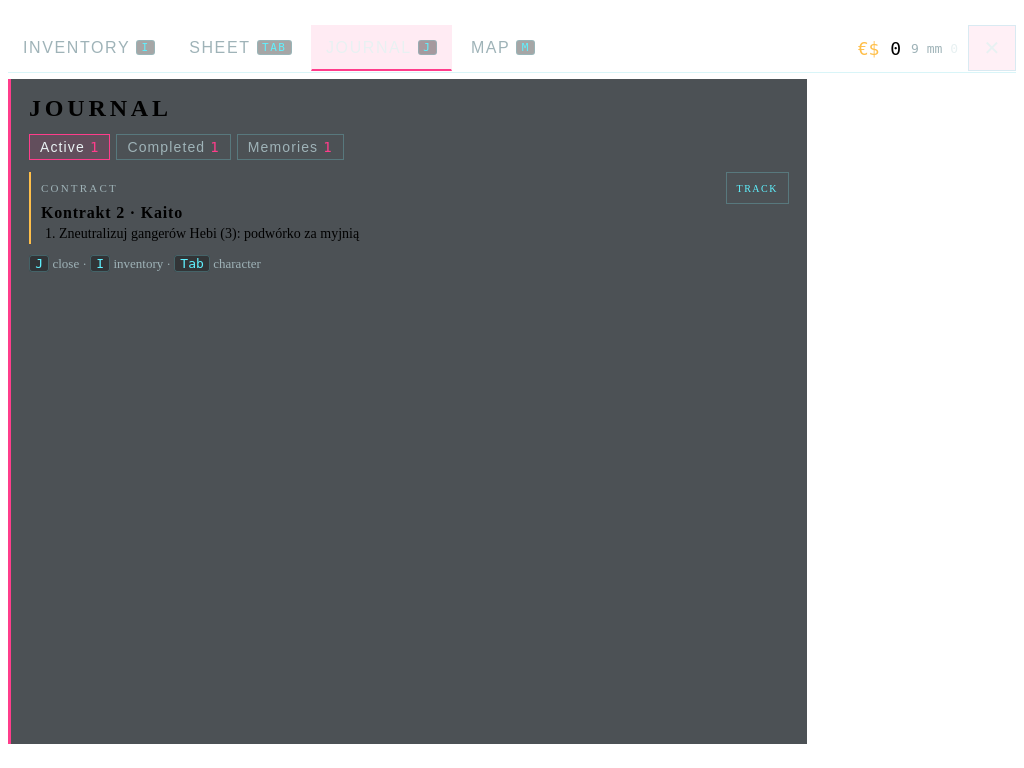
Test: journal › lists active jobs, finished ones with their steps, and memories
Expected: the list item with test id "journal-quest-contract-c2" shows "Contract", x1=41 y1=182 x2=118 y2=194
Expected: the list item with test id "journal-quest-contract-c2" shows "podwórko za myjnią", x1=59 y1=226 x2=359 y2=241
What coordinates should you click on to do the following:
click the tab "Completed 1"
I would click on:
 (174, 147)
Its box is x1=116 y1=134 x2=231 y2=160.
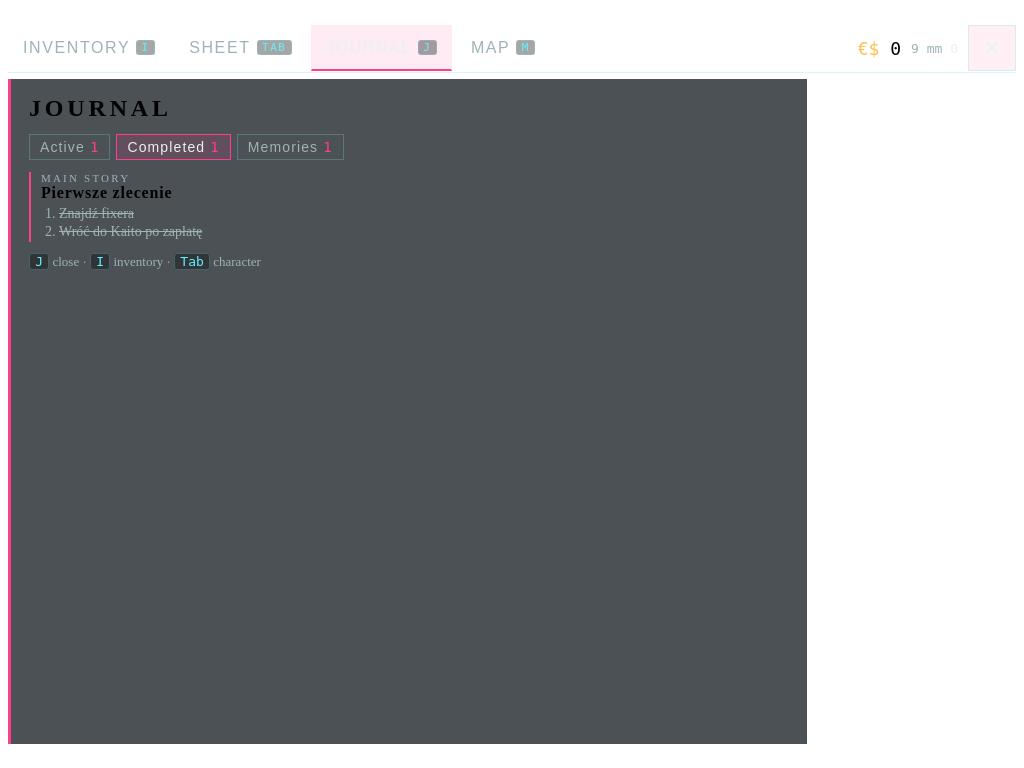
Expected: the list item with test id "journal-quest-m0_first_contract" shows "Main story", x1=41 y1=172 x2=130 y2=184
Expected: the number of list items with class "journal__step--done" is 2, x1=59 y1=206 x2=134 y2=221; x1=59 y1=224 x2=202 y2=239
What coordinates should you click on to do the following:
click the tab "Memories 1"
I would click on:
 (290, 147)
Its box is x1=237 y1=134 x2=344 y2=160.
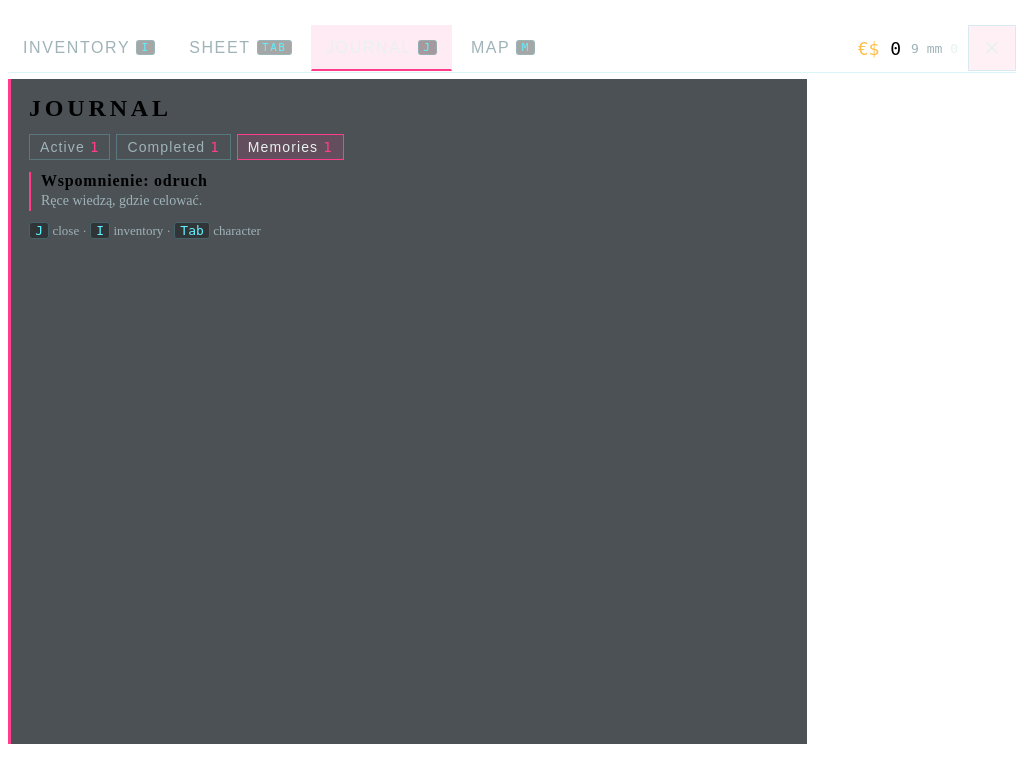
Expected: the list item with test id "journal-memory-combat_reflex" shows "Ręce wiedzą", x1=41 y1=193 x2=202 y2=208
